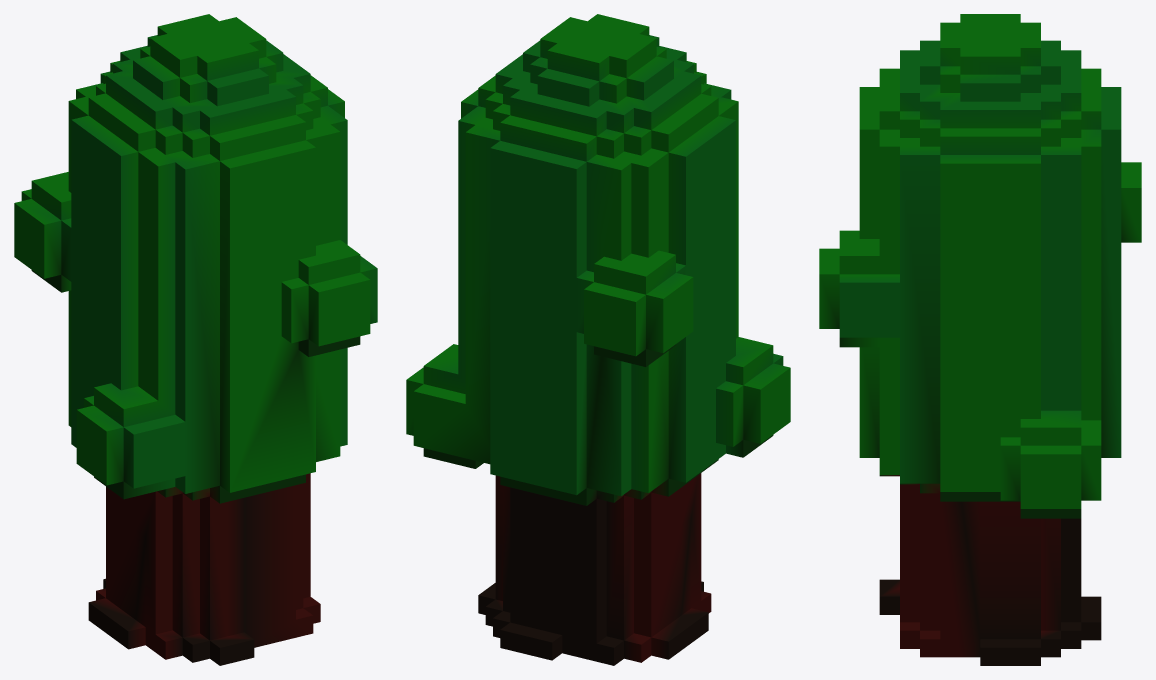
File: Tree_8.fbx
The picture shows the model from 3 angles, left to right: view 1: azimuth 30°, elevation 25°; view 2: azimuth 150°, elevation 25°; view 3: azimuth 270°, elevation 25°; orthographic projection.
Visible parts, largest first — view 1: Tree_8; view 2: Tree_8; view 3: Tree_8.
Part boxes in pixels (left/top/right/bottom): Tree_8: left=14, top=14, right=377, bottom=665; Tree_8: left=406, top=14, right=790, bottom=665; Tree_8: left=819, top=14, right=1141, bottom=665.
Bounding box in the file's own units: 170 × 320 × 160.
